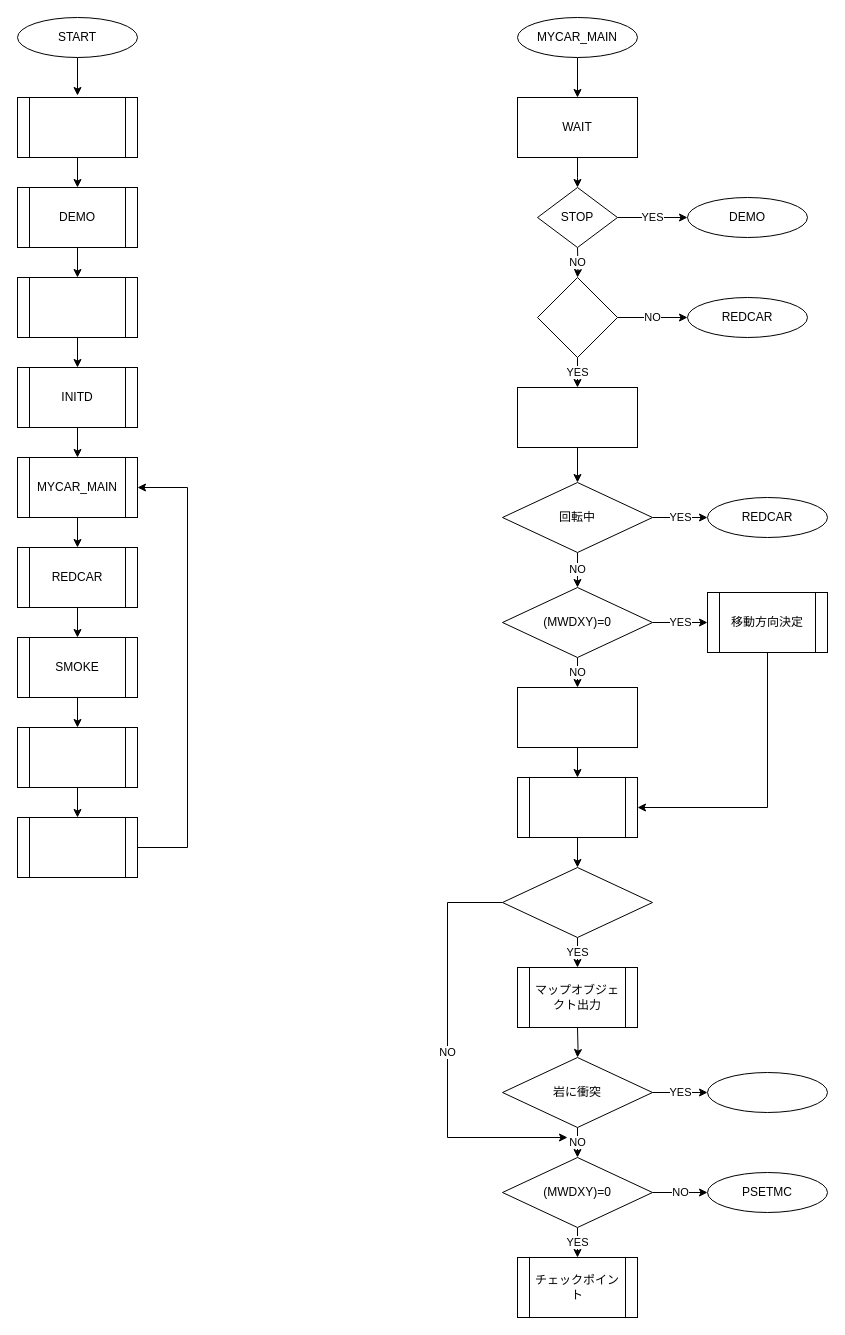
The diagram is 845 pixels wide and 1335 high, and some of its shapes have lost their labels. Here are the shapes that lost their labels. From the top down, the centre of each, then its label:
the point at 77,127: INITA
the point at 77,307: INITC
the point at 577,317: タイミング
the point at 577,417: CALCXY
the point at 577,717: マイカーの形をセットする
the point at 77,757: CHKPOINT
the point at 577,807: スクロール
the point at 77,847: BEEPSND
the point at 577,902: (MDXY)=0
the point at 767,1092: CRASH
